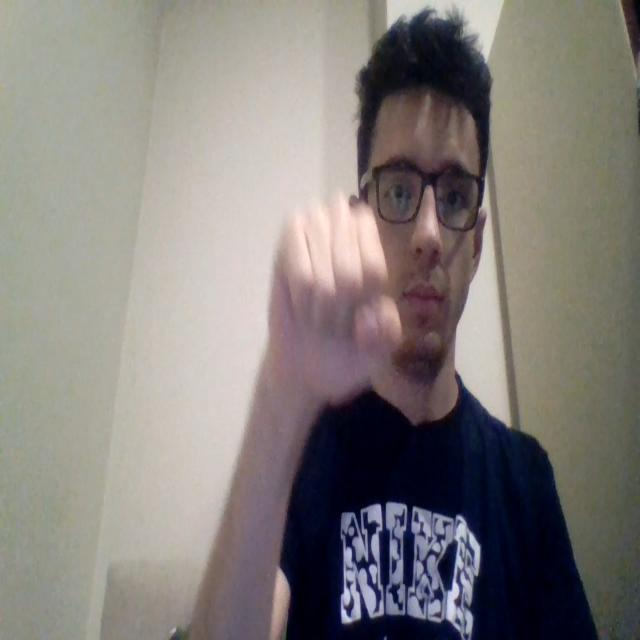yes: (266, 189, 403, 407)
